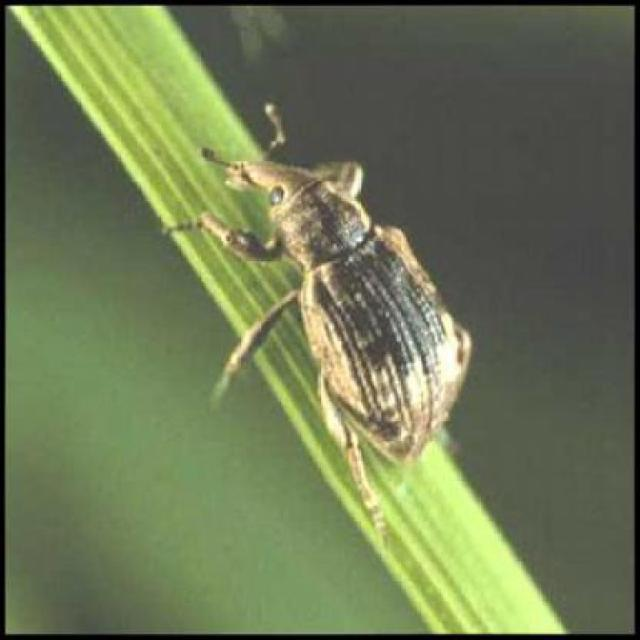rice-bug: (218, 127, 480, 484)
